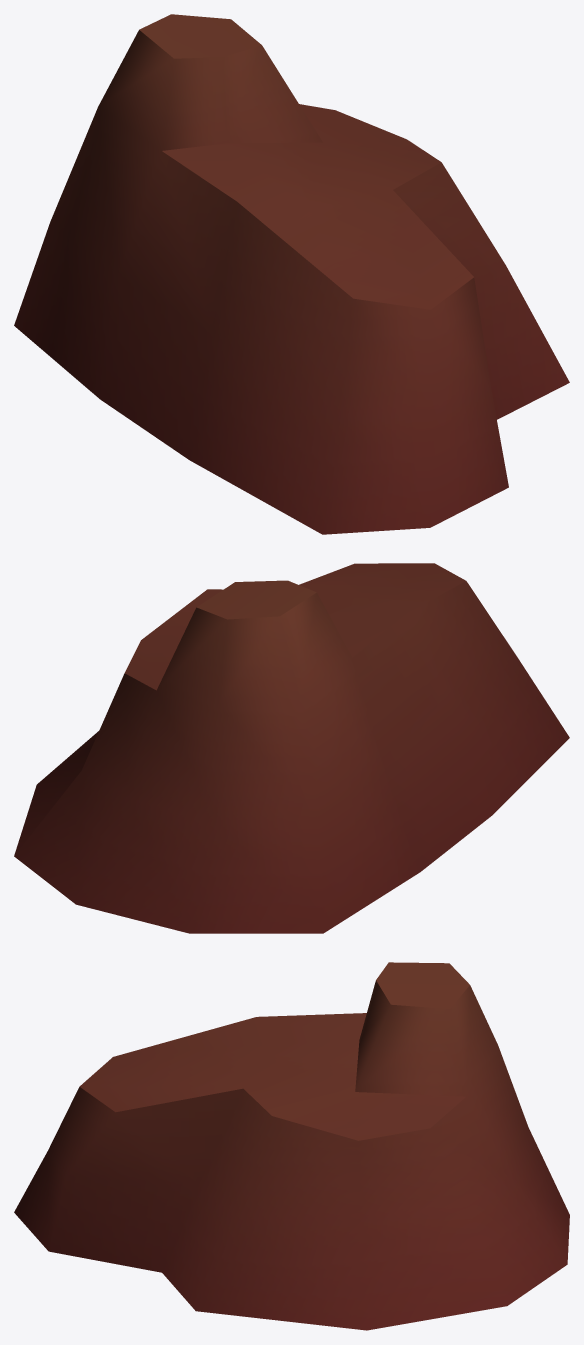
Rendered from Mountain_big.038.fbx.
3 views of the same model, one above another, from view 1: azimuth 30°, elevation 25°; view 2: azimuth 150°, elevation 25°; view 3: azimuth 270°, elevation 25° (orthographic). The views are drawn at different scales.
Visible parts, largest first — view 1: Mountain_big.038; view 2: Mountain_big.038; view 3: Mountain_big.038.
Part boxes in pixels (x1,y1,x2,y2): Mountain_big.038: (14,14,569,534); Mountain_big.038: (14,563,569,933); Mountain_big.038: (14,962,569,1330).
Size of the model in its own units: 244 by 169 by 352.
